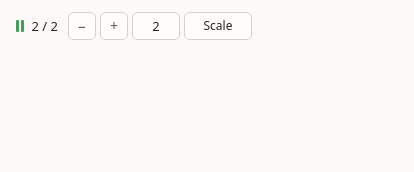
Test: <ScaleControl/> (operator) › surfaces an ApiError and stays mounted when the action rejects
Click the button named "scale up". click: {"x": 114, "y": 26}
box: x1=100 y1=12 x2=128 y2=40
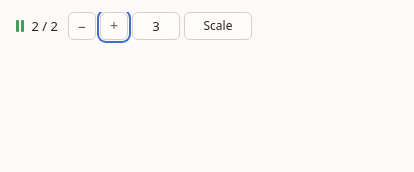
Click the button "Scale". click: {"x": 218, "y": 26}
box: x1=184 y1=12 x2=252 y2=40
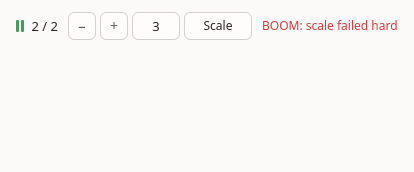
expect the button named "scale up" is shown: met, box x1=100 y1=12 x2=128 y2=40
expect the text "BOOM: scale failed hard" is shown: met, box x1=262 y1=18 x2=398 y2=34
